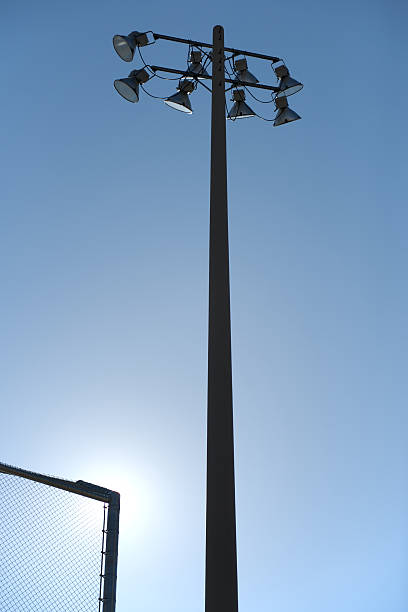light_pole: (202, 126, 240, 612)
